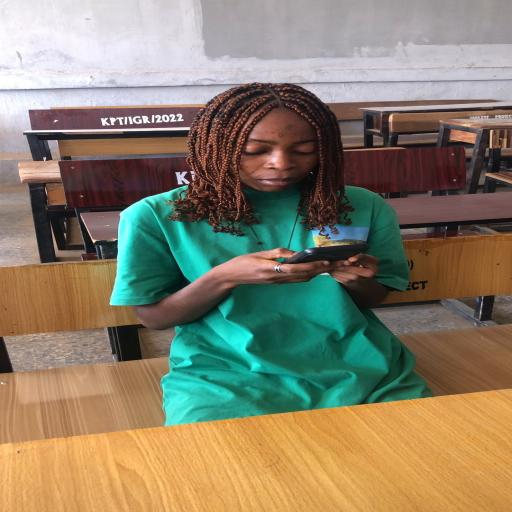Usingmobile: (109, 84, 424, 426)
